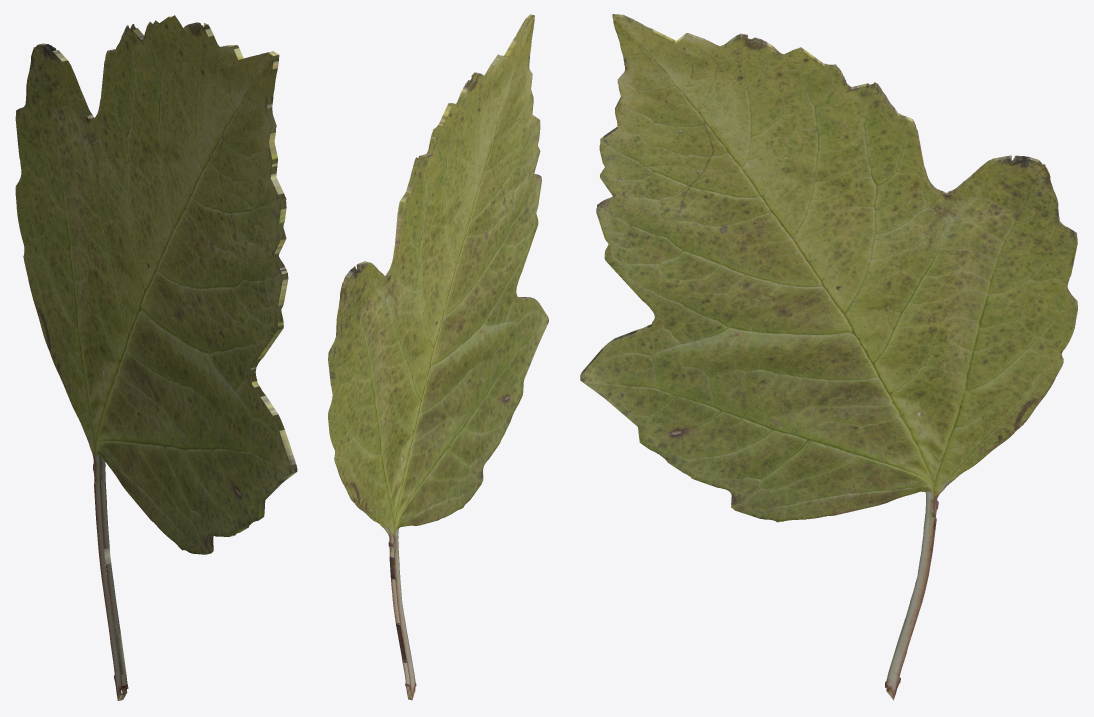
The model's file is leaf1_old.obj.
3 renders of one model, left to right at view 1: azimuth 30°, elevation 25°; view 2: azimuth 150°, elevation 25°; view 3: azimuth 270°, elevation 25°, orthographic. The views are drawn at different scales.
Parts seen in each view (by area): view 1: Plane; view 2: Plane; view 3: Plane.
Part boxes in pixels (left/top/right/bottom): Plane: left=15, top=15, right=297, bottom=700; Plane: left=328, top=14, right=548, bottom=700; Plane: left=580, top=14, right=1077, bottom=700.
Size of the model in its own units: 0.00528 by 0.6842 by 0.4534.
Materials: 1 (1 with a texture image).
